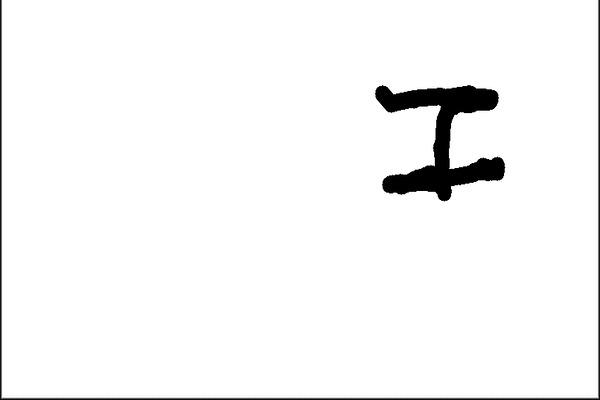i: (363, 76, 522, 201)
